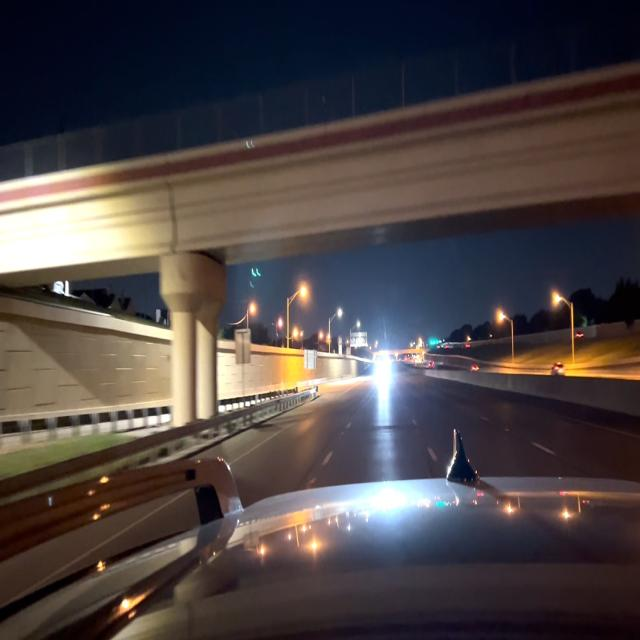back-of-sign: (235, 328, 251, 365)
